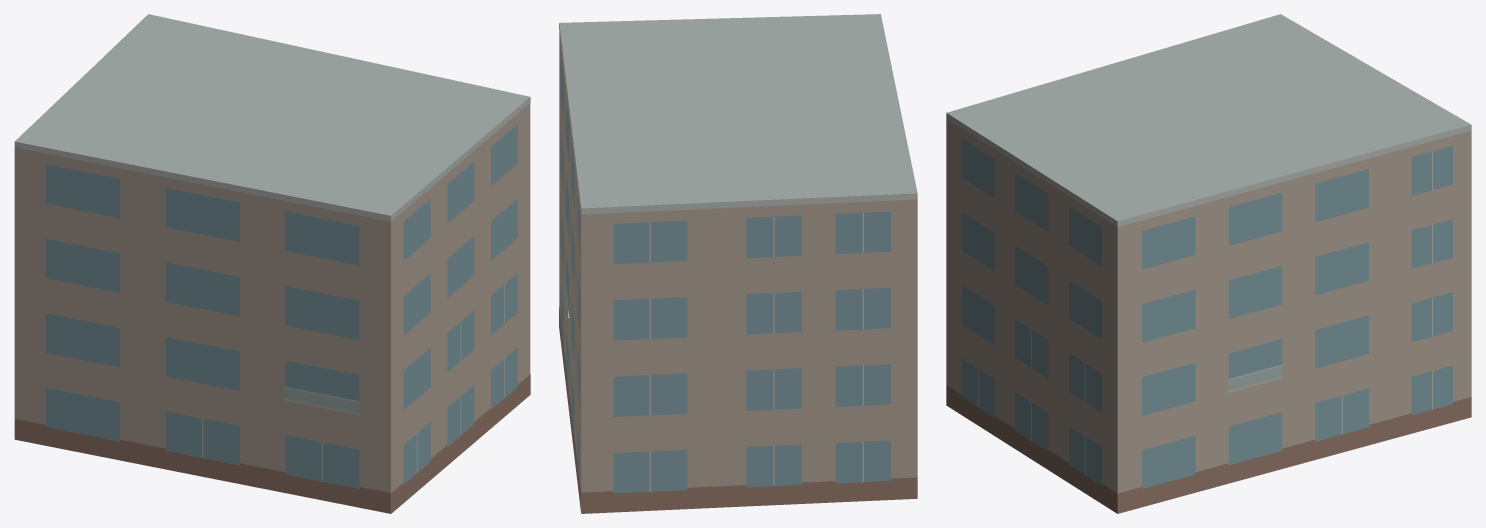
The model's file is survey-upis-32775786.glb.
The picture shows the model from 3 angles, left to right: view 1: azimuth 30°, elevation 25°; view 2: azimuth 150°, elevation 25°; view 3: azimuth 270°, elevation 25°; orthographic projection. The views are drawn at different scales.
Parts seen in each view (by area): view 1: survey-upis-32775786.tmp; view 2: survey-upis-32775786.tmp; view 3: survey-upis-32775786.tmp.
Part boxes in pixels (x1,y1,x2,y2): survey-upis-32775786.tmp: (14, 14, 530, 513); survey-upis-32775786.tmp: (559, 14, 917, 513); survey-upis-32775786.tmp: (946, 14, 1471, 513).
Size of the model in its own units: 18.55 by 12.2 by 19.86.
